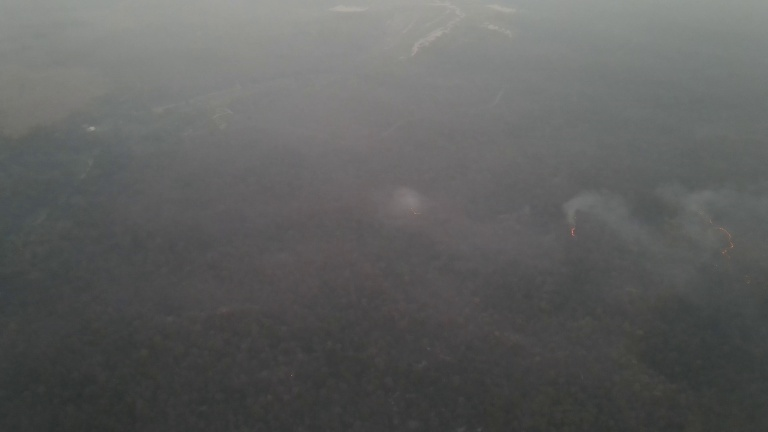fire: (720, 225, 738, 262), (568, 227, 580, 242)
smoke: (560, 183, 762, 287), (391, 181, 427, 232)
